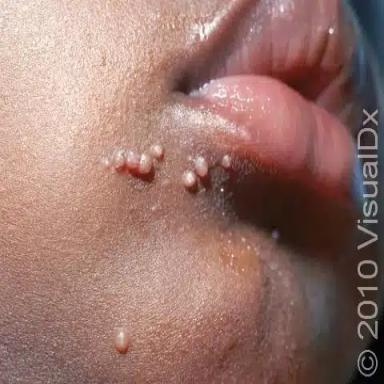Molluscum-Contagiosum: (100, 145, 164, 180), (187, 154, 209, 178), (115, 327, 130, 354), (181, 170, 196, 188), (221, 154, 231, 168)
